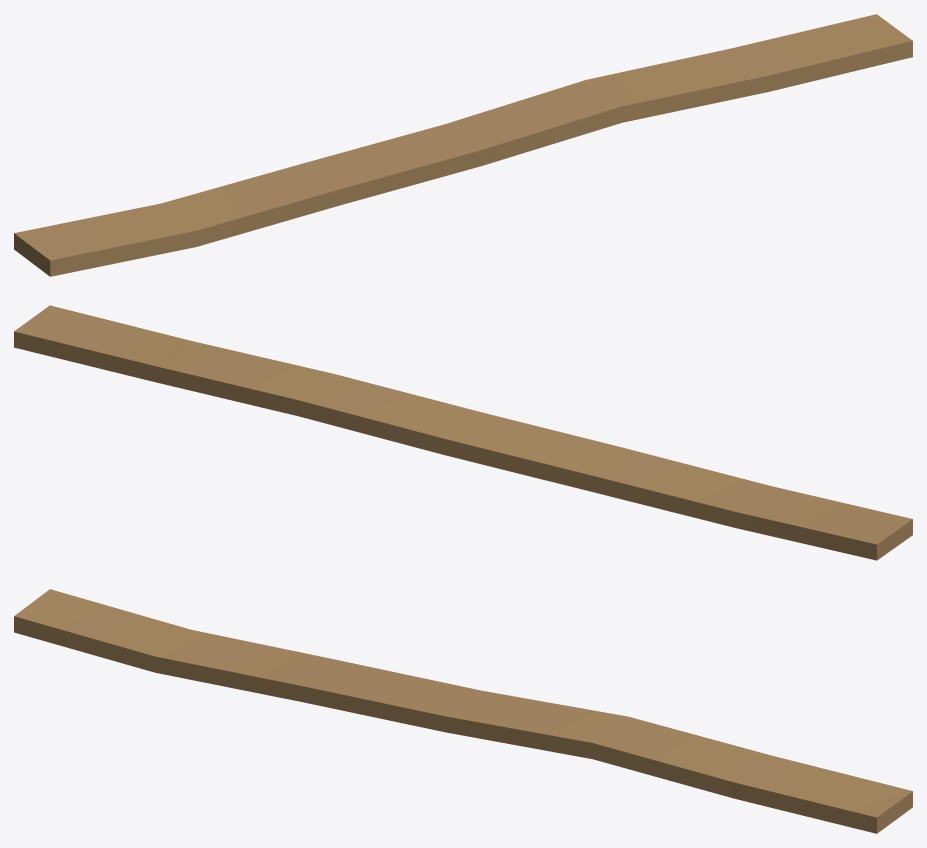
The model's file is palnk_02_a.fbx.
3 renders of one model, top to bottom at view 1: azimuth 30°, elevation 25°; view 2: azimuth 150°, elevation 25°; view 3: azimuth 330°, elevation 25°, orthographic.
Visible parts, largest first — view 1: Palnk_02_a; view 2: Palnk_02_a; view 3: Palnk_02_a.
Boxes of the visible parts, bbox=[...] form: Palnk_02_a: bbox=[14, 14, 912, 276]; Palnk_02_a: bbox=[14, 305, 912, 560]; Palnk_02_a: bbox=[14, 589, 912, 833].
Size of the model in its own units: 47.35 by 4.15 by 1.53.
